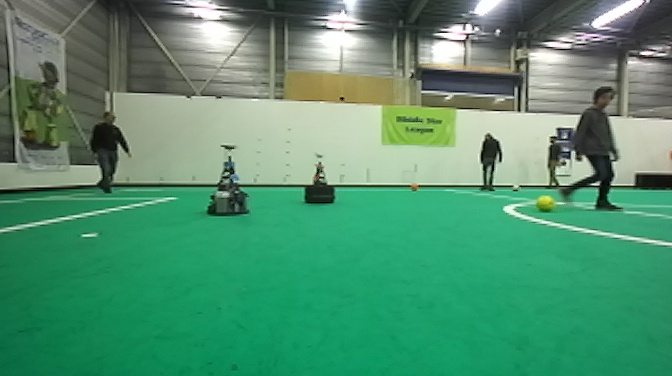ball: (536, 193, 555, 212), (407, 181, 421, 193), (510, 182, 521, 192)
human: (570, 85, 625, 213), (84, 113, 133, 195), (476, 131, 504, 191), (543, 131, 565, 189)
robot: (205, 143, 252, 217), (305, 154, 337, 205)
